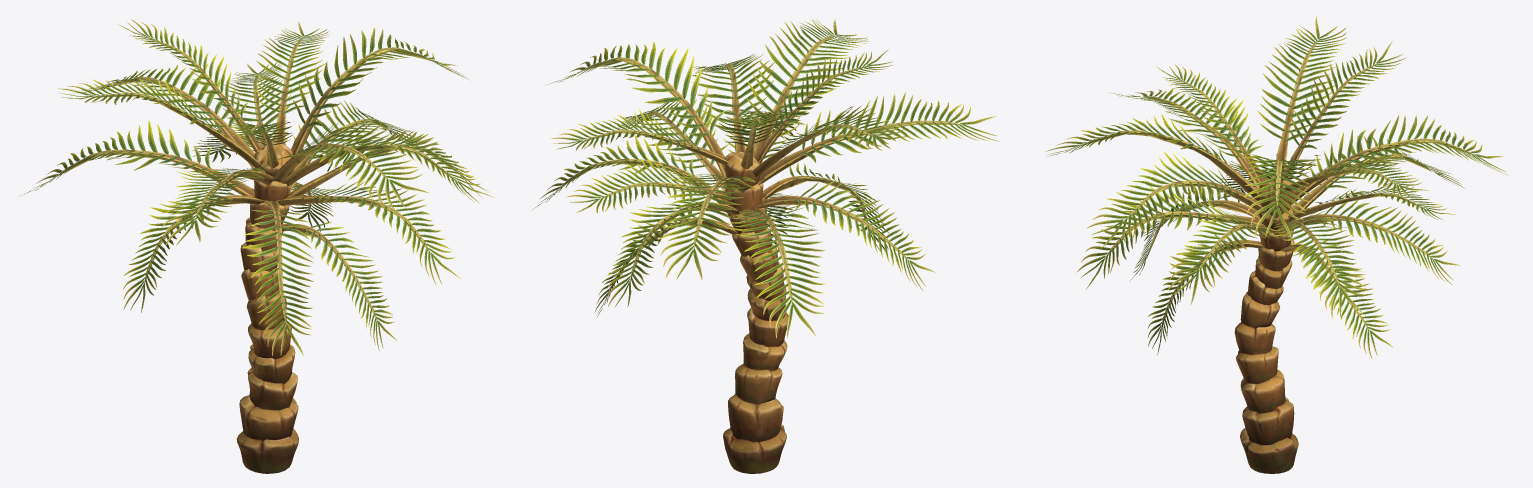
File: tamareira.glb
3 renders of one model, left to right at view 1: azimuth 30°, elevation 25°; view 2: azimuth 150°, elevation 25°; view 3: azimuth 270°, elevation 25°, orthographic. The views are drawn at different scales.
Parts seen in each view (by area): view 1: tamareira; view 2: tamareira; view 3: tamareira.
Boxes of the visible parts, x1=… form: tamareira: x1=19, y1=19, x2=494, y2=473; tamareira: x1=531, y1=19, x2=999, y2=473; tamareira: x1=1045, y1=16, x2=1508, y2=473.
Bounding box in the file's own units: 9.77 × 10 × 11.28.
1 material, 1 textured.
